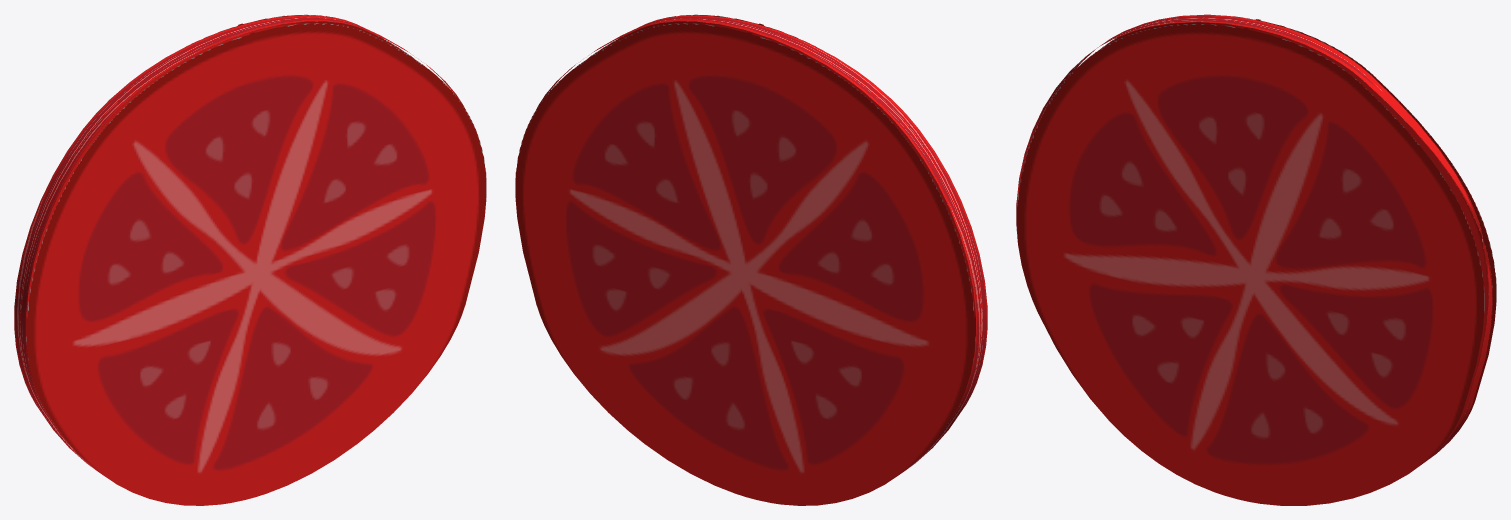
File: tomato_sliced.fbx
3 views of the same model, side by side, from view 1: azimuth 30°, elevation 25°; view 2: azimuth 150°, elevation 25°; view 3: azimuth 330°, elevation 25° (orthographic).
Visible parts, largest first — view 1: tomato_sliced; view 2: tomato_sliced; view 3: tomato_sliced.
Boxes of the visible parts, bbox=[...] form: tomato_sliced: bbox=[14, 14, 486, 505]; tomato_sliced: bbox=[515, 14, 987, 505]; tomato_sliced: bbox=[1016, 14, 1496, 505].
Size of the model in its own units: 7.91 by 7.65 by 0.3528.
Materials: 1 (1 with a texture image).
